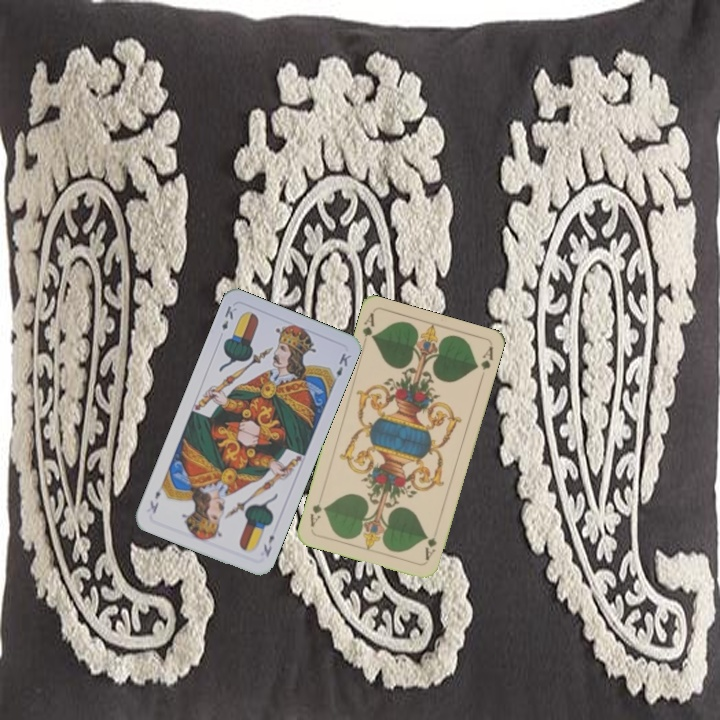EK: (218, 302, 239, 333), (259, 531, 277, 559)
GA: (421, 524, 441, 563), (358, 309, 377, 342)
